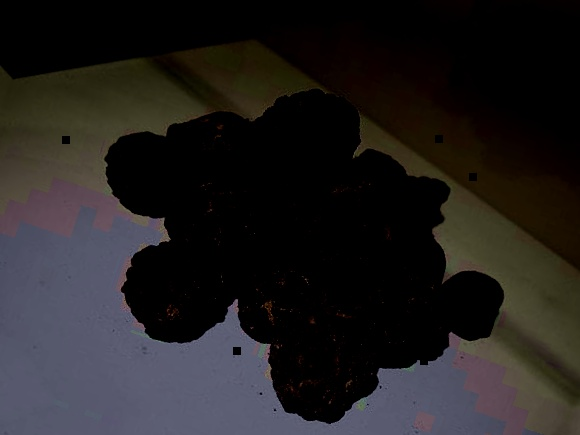halobolite: (254, 81, 370, 208), (303, 248, 407, 384), (246, 143, 375, 240), (137, 252, 246, 339), (174, 192, 274, 265), (101, 135, 182, 217), (430, 261, 507, 340), (153, 113, 249, 176), (258, 239, 324, 328)
